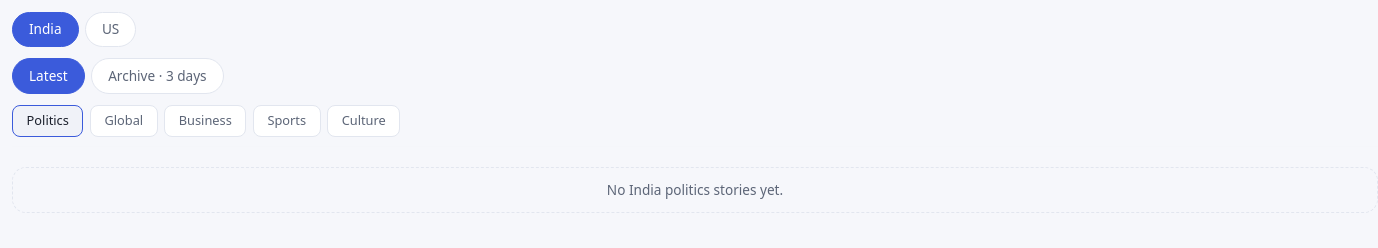
StoriesFeed — Latest/Archive window › Latest shows only the newest run_date's stories
The image size is (1378, 248).
Click the tab "Business": click(205, 121) [164,105,246,137]
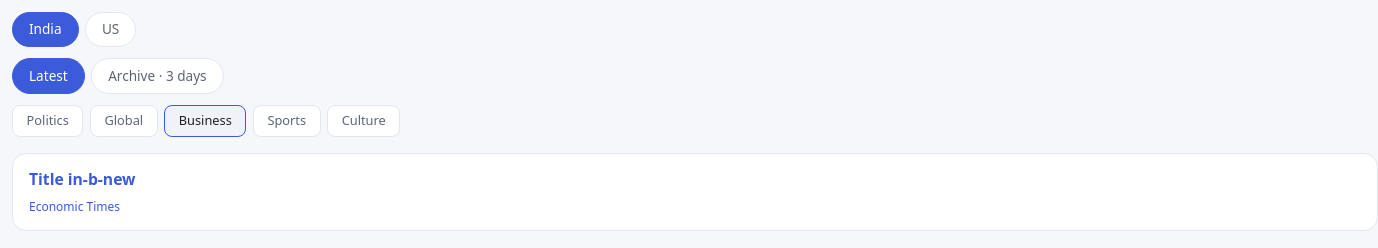
Check: the link "Title in-b-new" is shown, box [29,168,136,190]
